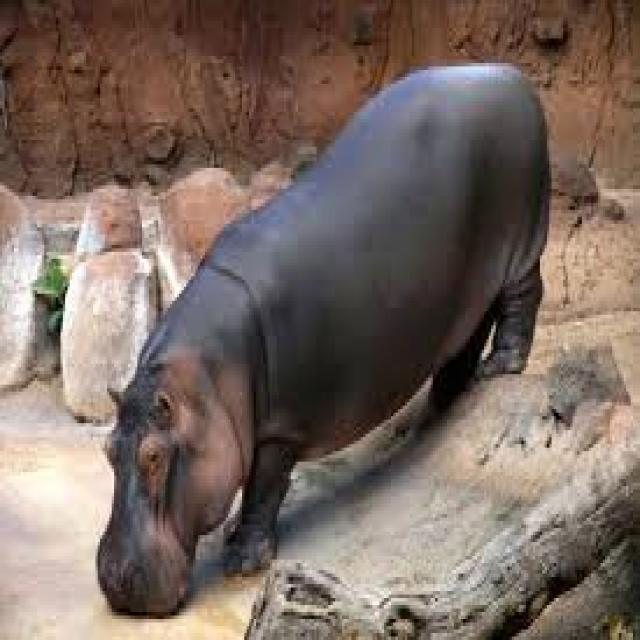hippopotamus: (98, 63, 549, 612)
